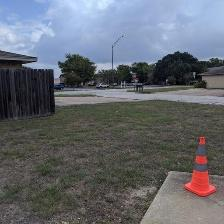car: (96, 83, 109, 89), (54, 84, 64, 90)
traffic cone: (184, 135, 217, 197)
